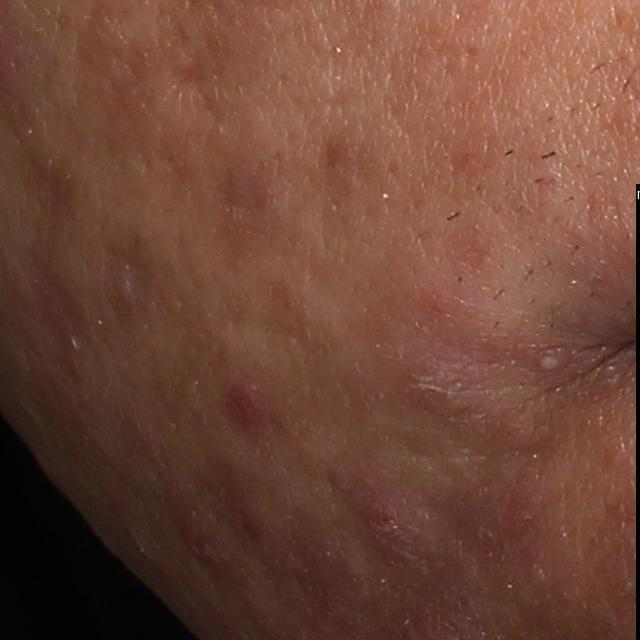atrophic_scar: (172, 49, 206, 93)
papule: (336, 493, 426, 570), (170, 497, 229, 567), (223, 380, 278, 434), (233, 491, 278, 547)
pustule: (536, 346, 573, 380)
